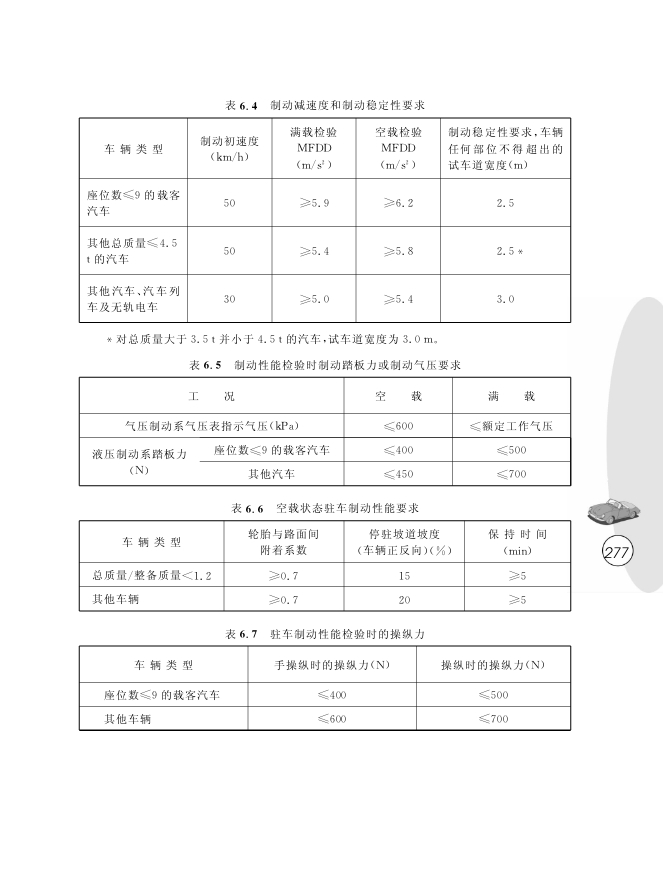table: (78, 117, 572, 322), (78, 376, 572, 486), (78, 519, 572, 611), (78, 645, 572, 730)
